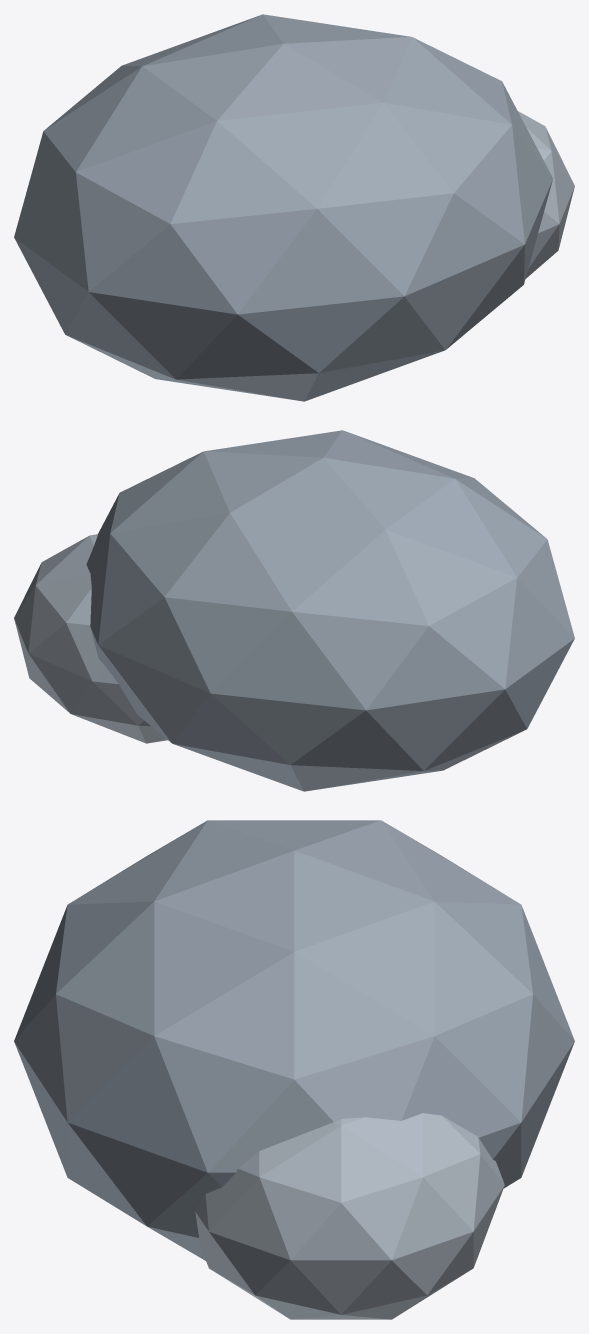
Rendered from Parkour_Rock.fbx.
3 views of the same model, one above another, from view 1: azimuth 30°, elevation 25°; view 2: azimuth 150°, elevation 25°; view 3: azimuth 270°, elevation 25° (orthographic). The views are drawn at different scales.
Visible parts, largest first — view 1: Rock; view 2: Rock; view 3: Rock.
Part boxes in pixels (<box>): Rock: <box>14,14,574,401</box>; Rock: <box>14,430,574,791</box>; Rock: <box>14,820,574,1319</box>.
Size of the model in its own units: 1.5 by 0.9 by 1.2.
